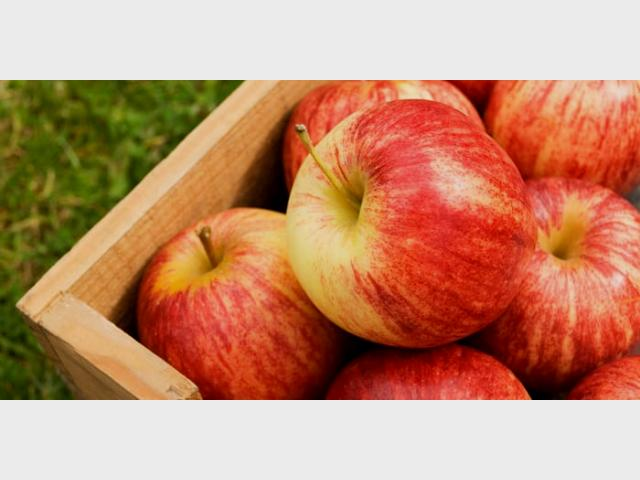red apple: (284, 99, 539, 347), (136, 207, 347, 399), (453, 176, 640, 389), (483, 82, 640, 199), (327, 346, 532, 400)
